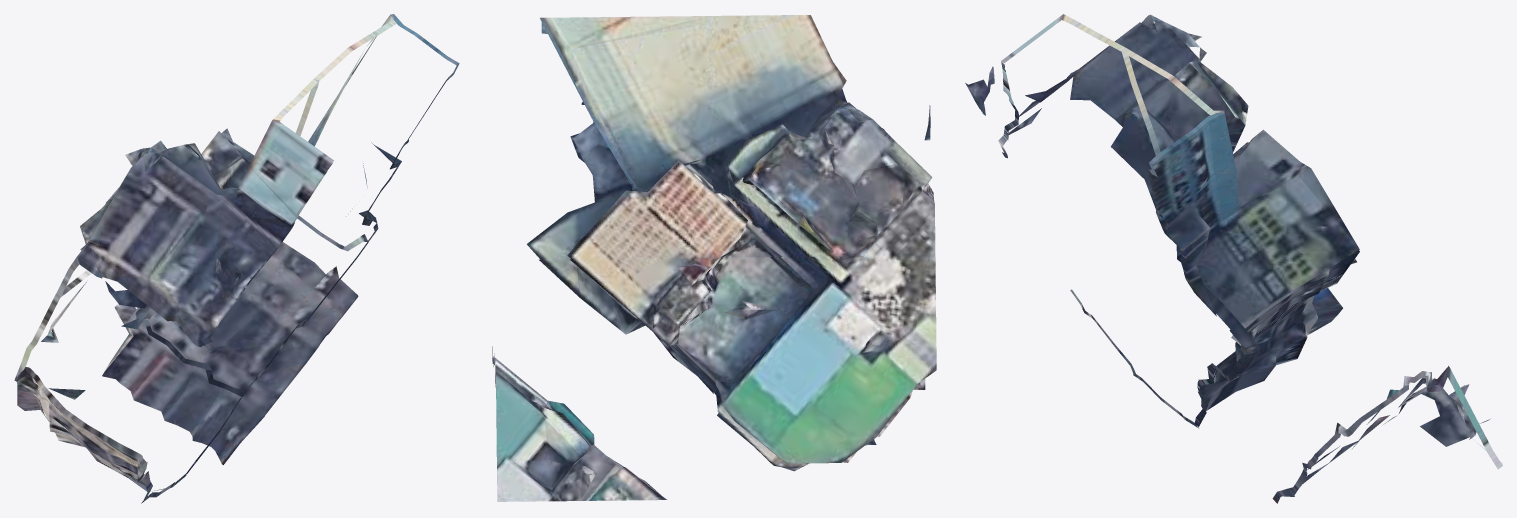
3 views of the same model, side by side, from view 1: azimuth 30°, elevation 25°; view 2: azimuth 150°, elevation 25°; view 3: azimuth 270°, elevation 25° (orthographic). The views are drawn at different scales.
Size of the model in its own units: 38.14 by 37.63 by 39.19.
2 materials, 2 textured.
